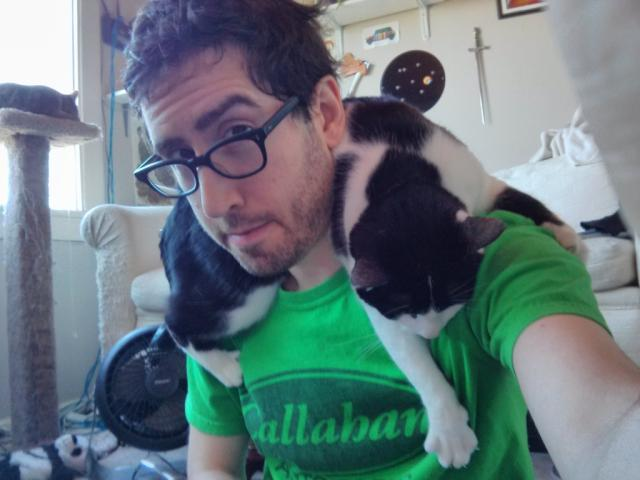Cat: (160, 99, 588, 469)
